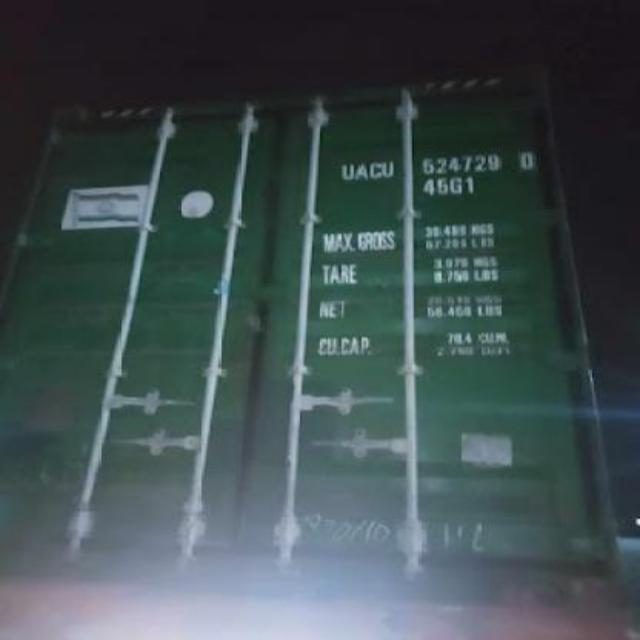0: (516, 147, 534, 176)
2: (434, 152, 448, 178), (472, 148, 486, 174)
4: (448, 154, 460, 176)
5: (420, 152, 436, 178)
7: (460, 151, 472, 175)
9: (484, 148, 500, 176)
A: (354, 158, 368, 186)
C: (370, 149, 382, 187)
U: (338, 158, 356, 182), (382, 154, 396, 182)
